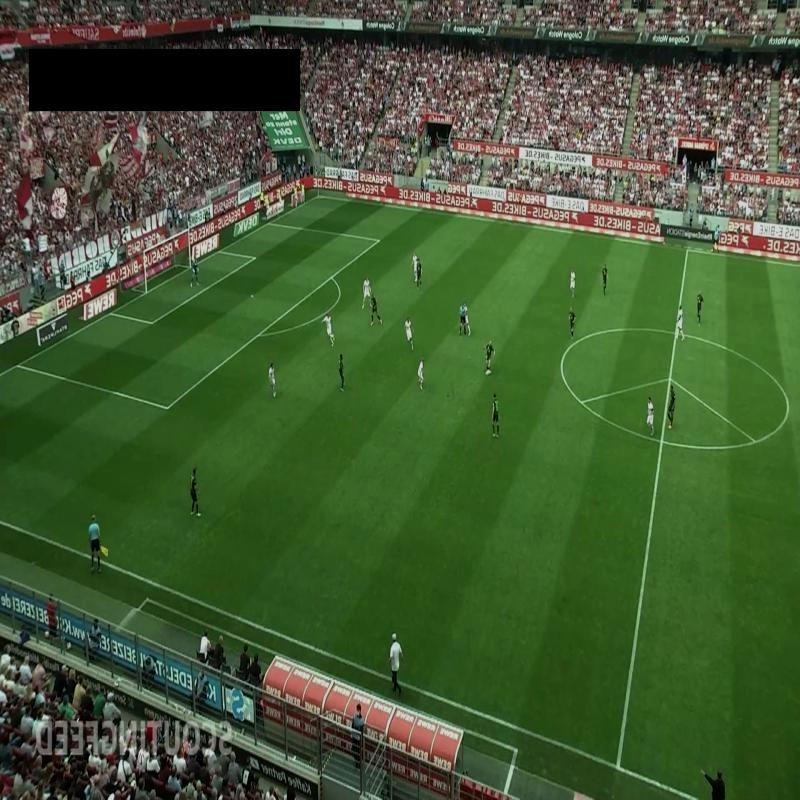1: (312, 189, 326, 203)
10: (324, 272, 338, 286)
11: (250, 326, 266, 344)
12: (160, 400, 176, 416)
13: (682, 243, 696, 256)
14: (670, 327, 684, 341)
15: (656, 435, 670, 449)
16: (604, 755, 632, 781)
2: (262, 216, 276, 230)
3: (212, 244, 226, 258)
4: (102, 305, 120, 322)
5: (9, 356, 25, 374)
7: (248, 250, 262, 264)
8: (145, 314, 160, 328)
9: (372, 233, 386, 247)
c: (780, 400, 794, 416), (556, 355, 570, 368)
